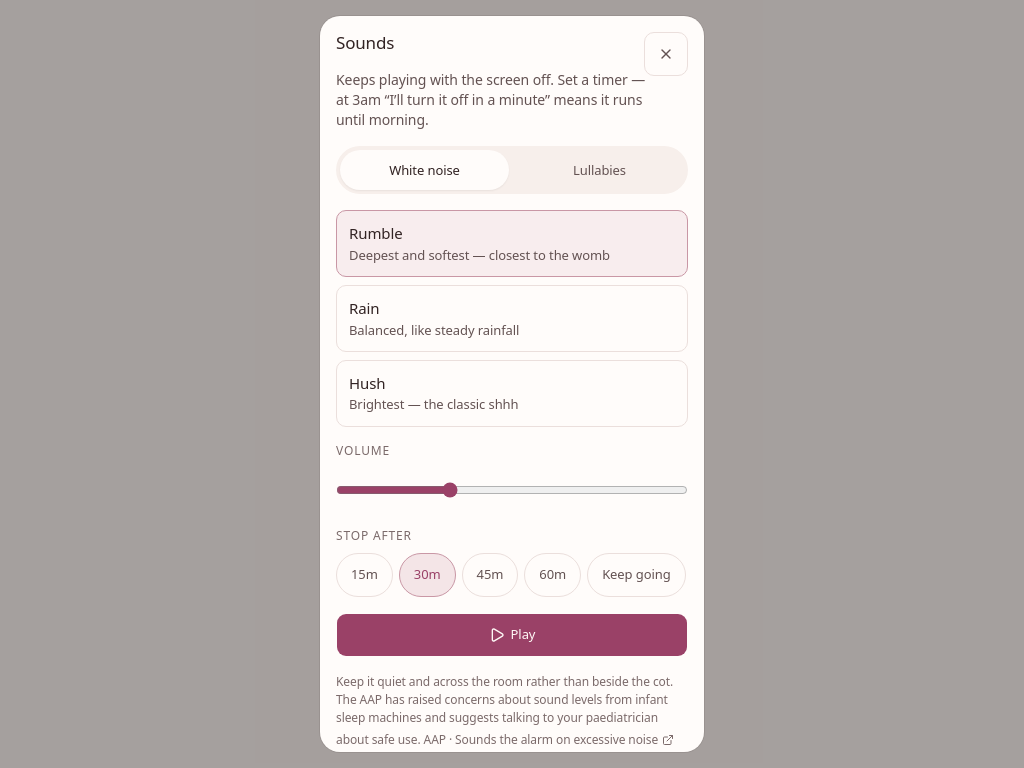
Test case: a timer picked while it plays is the one this play stops on
Click the button "Play" at {"x": 512, "y": 635}, box [336, 613, 688, 657]
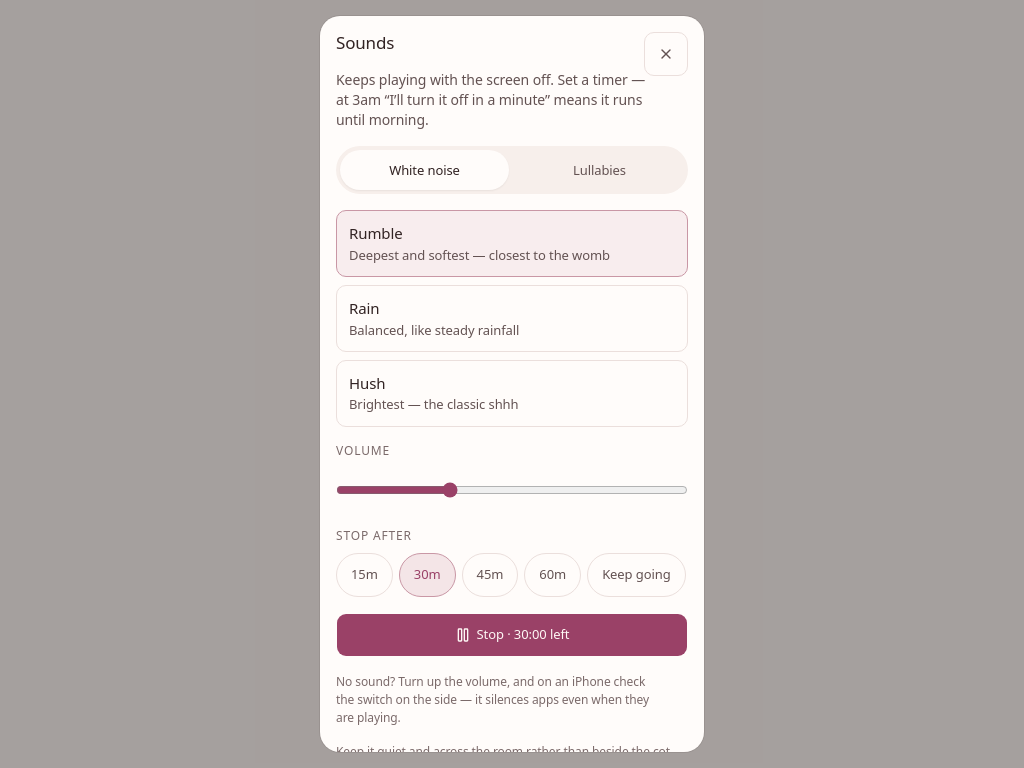
Click the button "Keep going" at {"x": 636, "y": 575}, box [587, 553, 686, 597]
Wait 1860000 ms
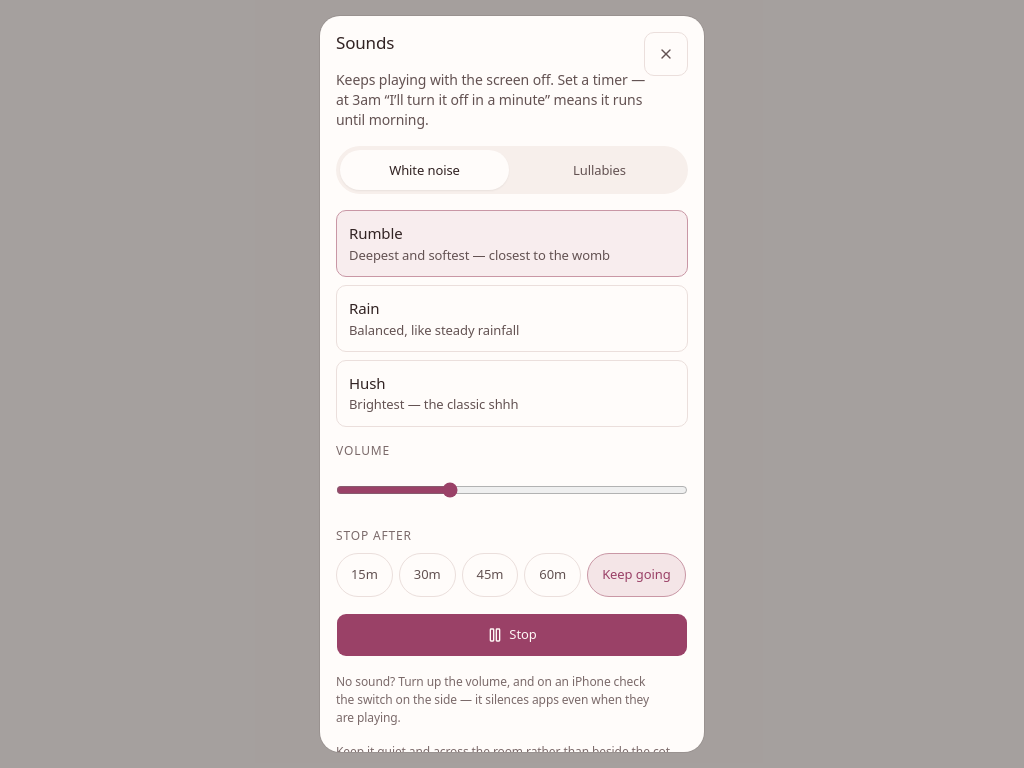
Expected: the button "Stop" is shown, [336, 613, 688, 657]
Click the button "15m" at {"x": 364, "y": 575}, box [336, 553, 393, 597]
Wait 901000 ms
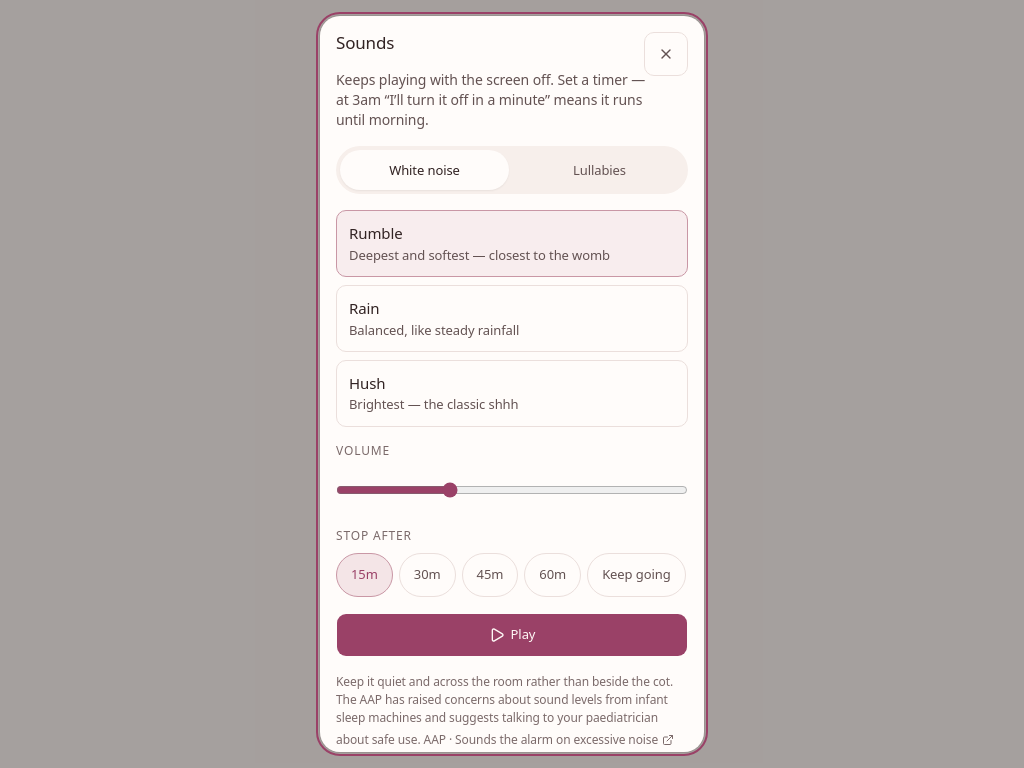
Expected: the button "Play" is shown, [336, 613, 688, 657]
